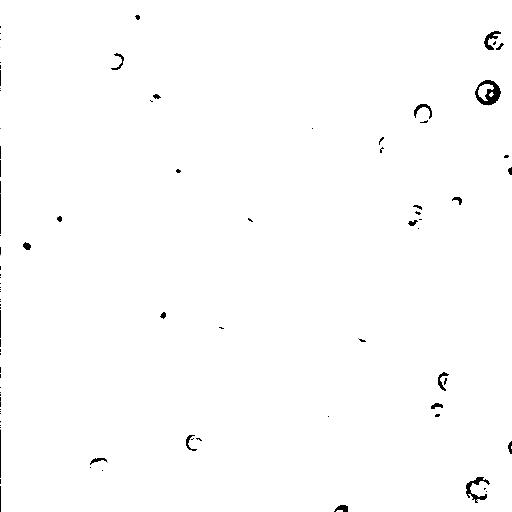micro-algae: (397, 353, 511, 489), (296, 207, 415, 326), (14, 8, 92, 82), (79, 0, 147, 67), (447, 420, 507, 482), (424, 180, 475, 230), (371, 7, 415, 55), (395, 204, 428, 238), (13, 53, 48, 85), (119, 0, 155, 31), (167, 153, 195, 191), (113, 335, 145, 368), (483, 125, 511, 161), (463, 475, 494, 505), (473, 77, 502, 106), (349, 320, 379, 347), (151, 299, 175, 331), (13, 232, 39, 258), (375, 129, 401, 155), (41, 209, 66, 234), (483, 27, 506, 52), (88, 455, 111, 479), (243, 207, 266, 230), (311, 113, 333, 135), (412, 103, 433, 125), (437, 370, 457, 391), (106, 52, 125, 71), (184, 433, 203, 451), (447, 195, 464, 212), (428, 401, 446, 417), (333, 500, 352, 511), (504, 157, 512, 179), (506, 438, 511, 457)
